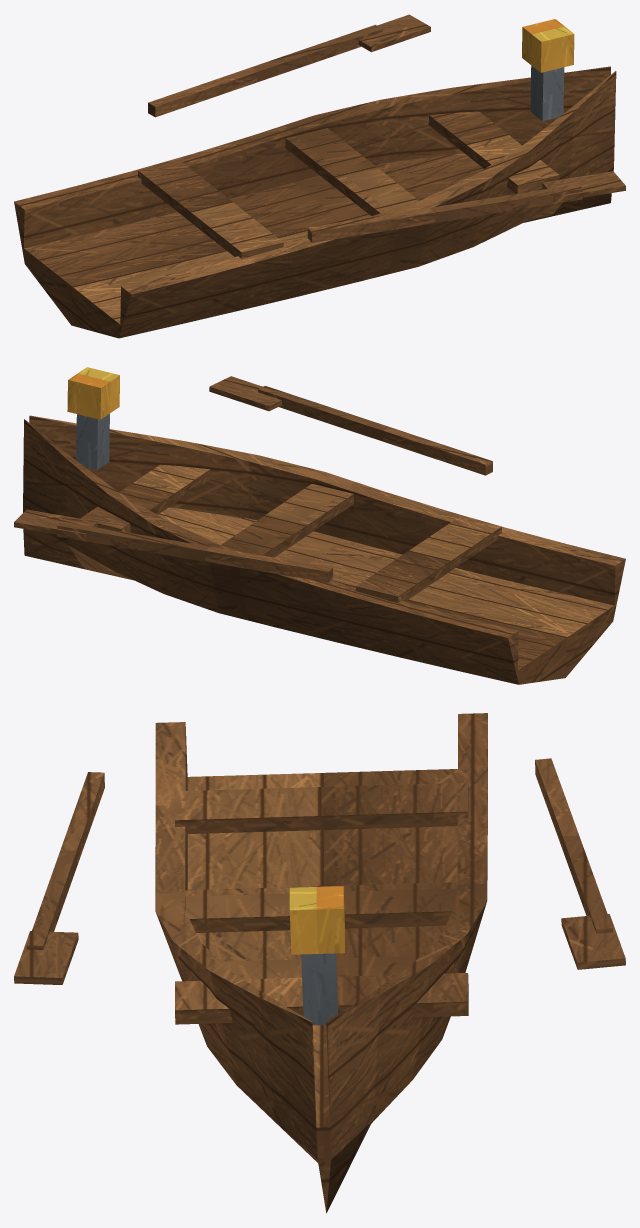
File: bote_remos.glb
3 renders of one model, top to bottom at view 1: azimuth 30°, elevation 25°; view 2: azimuth 150°, elevation 25°; view 3: azimuth 270°, elevation 25°, orthographic. The views are drawn at different scales.
Visible parts, largest first — view 1: BoteRemos_casco; view 2: BoteRemos_casco; view 3: BoteRemos_casco.
Part boxes in pixels (x1=…): BoteRemos_casco: x1=14, y1=14, x2=625, y2=338; BoteRemos_casco: x1=14, y1=367, x2=625, y2=684; BoteRemos_casco: x1=14, y1=713, x2=625, y2=1213.
Bounding box in the file's own units: 9 × 3.06 × 6.26.
Materials: 3 (3 with a texture image).
